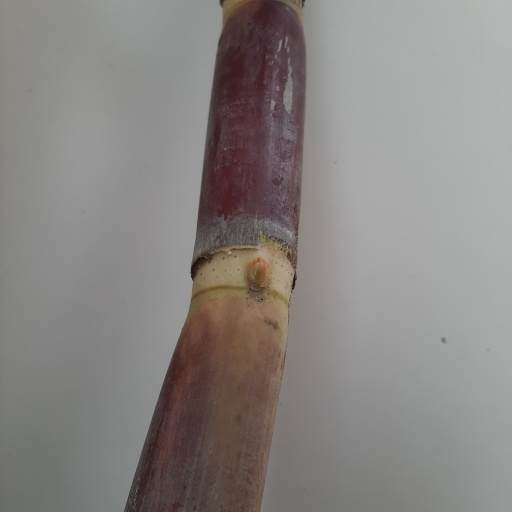Bud: (243, 256, 271, 294)
